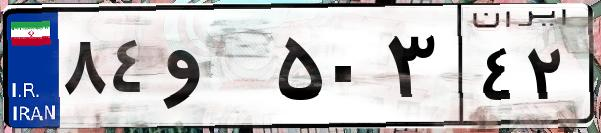0: (330, 28, 385, 110)
2: (525, 38, 570, 115)
3: (385, 28, 445, 110)
4: (475, 38, 525, 113), (110, 28, 158, 98)
5: (270, 28, 330, 110)
8: (57, 26, 110, 100)
و: (158, 20, 270, 120)
